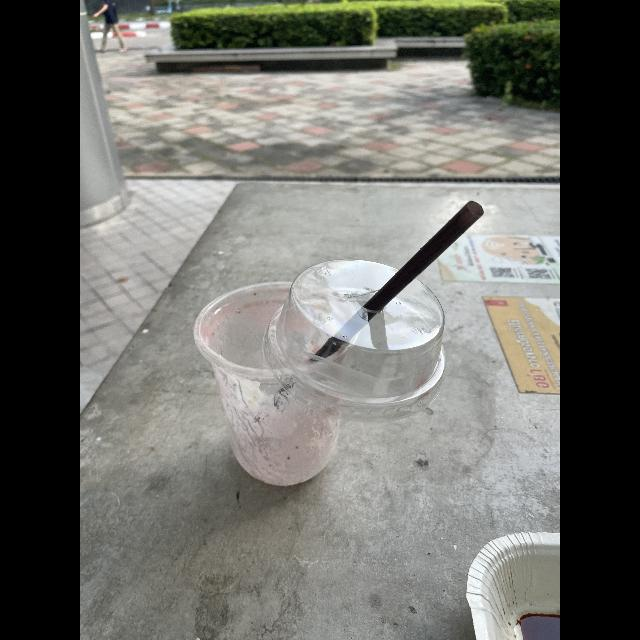plastic_cup: (192, 274, 350, 484)
plastic_cup_lid: (274, 252, 452, 420)
straw: (295, 183, 505, 379)
